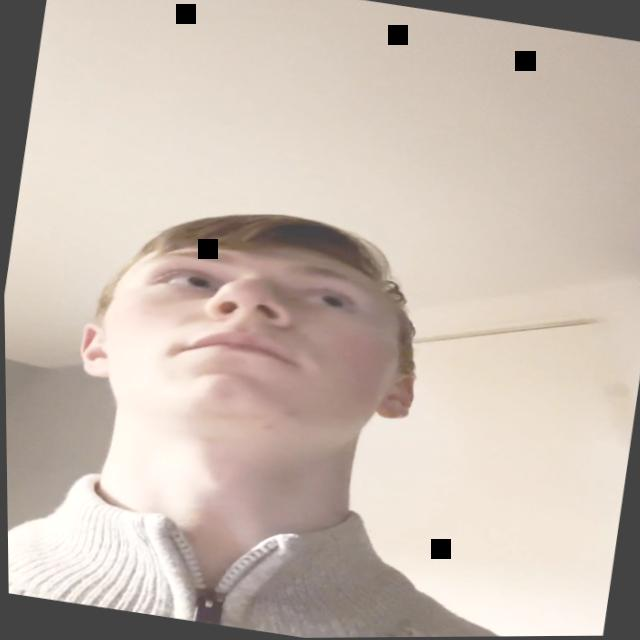NO-Mask: (70, 225, 422, 501)
